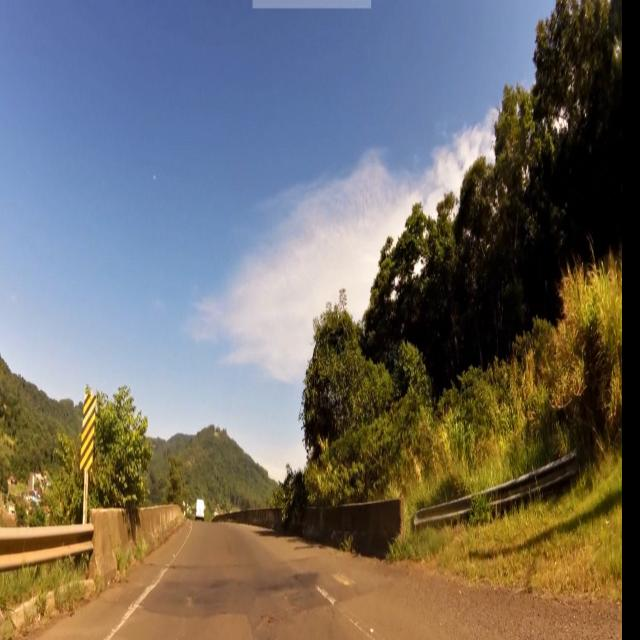MP: (80, 393, 95, 480)
